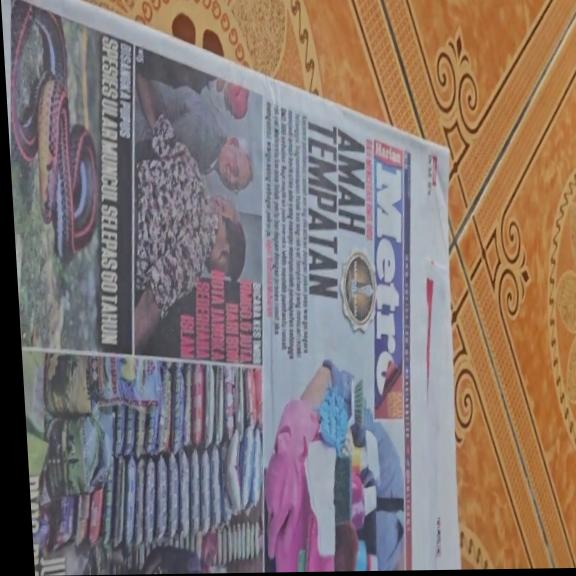Kertas: (9, 152, 472, 572)
